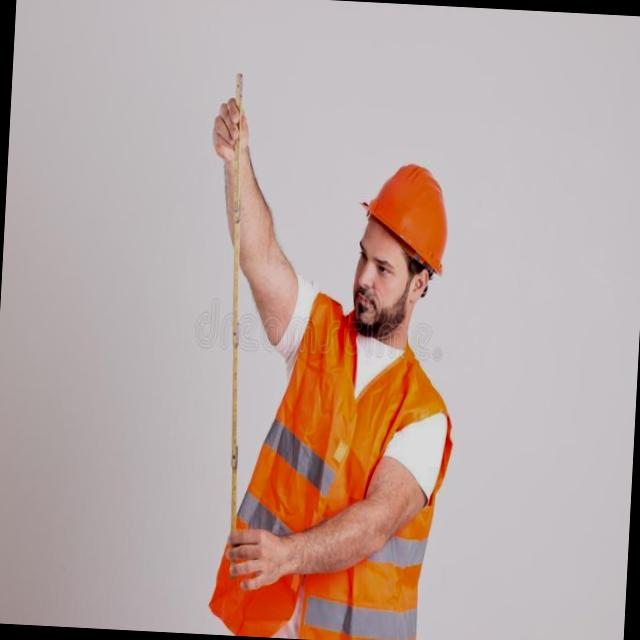helmet: (351, 155, 453, 304)
vest: (251, 297, 460, 640)
